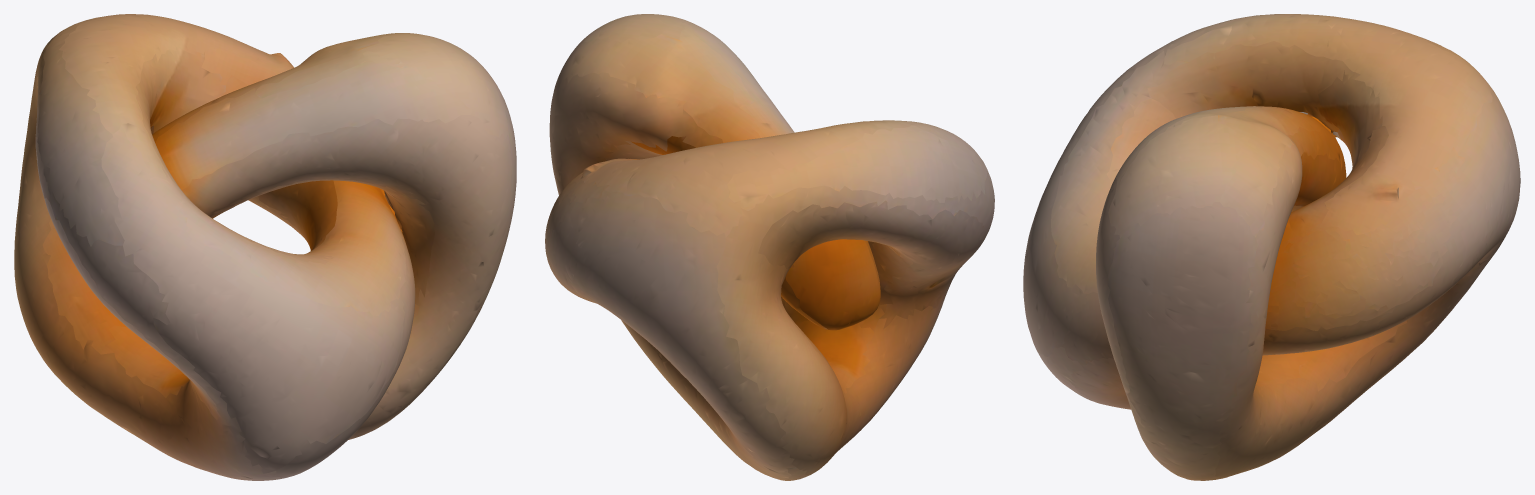
The model's file is hero-organic.glb.
3 renders of one model, left to right at view 1: azimuth 30°, elevation 25°; view 2: azimuth 150°, elevation 25°; view 3: azimuth 270°, elevation 25°, orthographic. The views are drawn at different scales.
Parts seen in each view (by area): view 1: textured_mesh; view 2: textured_mesh; view 3: textured_mesh.
Boxes of the visible parts, box(x1,y1,x2,y2) form: textured_mesh: box(14, 14, 516, 480); textured_mesh: box(545, 14, 994, 480); textured_mesh: box(1023, 14, 1520, 480).
Size of the model in its own units: 1.18 by 1.06 by 1.2.
1 material, 1 textured.
